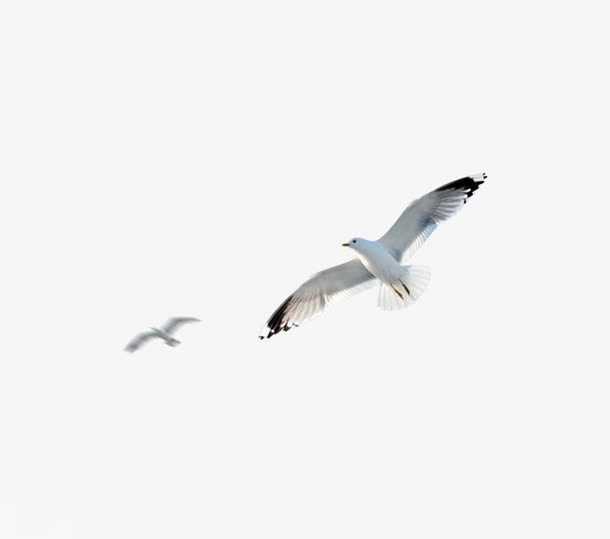bird: (252, 168, 490, 344), (121, 311, 200, 357)
